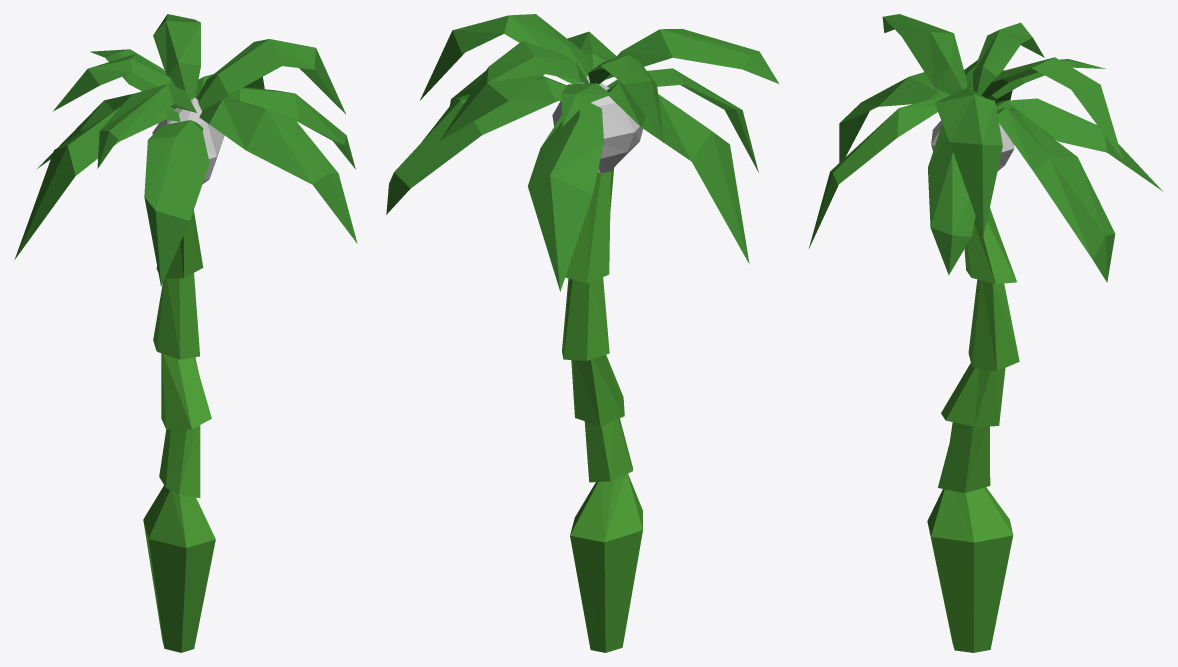
Rendered from palm_tree.obj.
The picture shows the model from 3 angles, left to right: view 1: azimuth 30°, elevation 25°; view 2: azimuth 150°, elevation 25°; view 3: azimuth 270°, elevation 25°; orthographic projection. The views are drawn at different scales.
Size of the model in its own units: 10.05 by 17.41 by 9.28.
